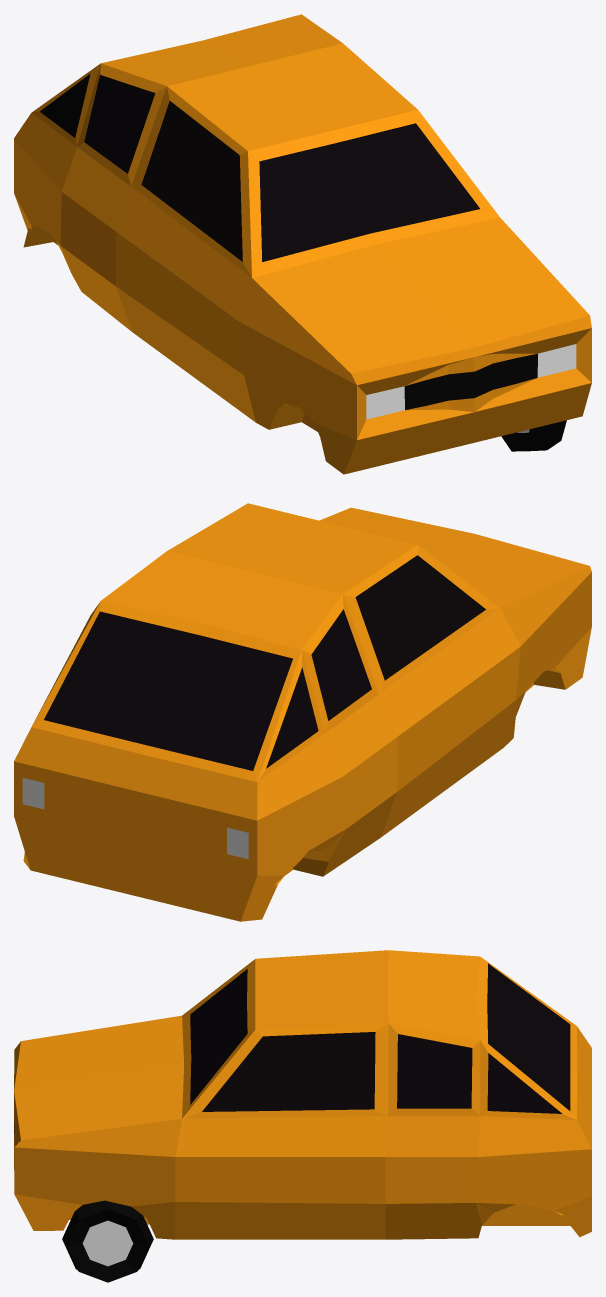
Rendered from car.fbx.
3 renders of one model, top to bottom at view 1: azimuth 30°, elevation 25°; view 2: azimuth 150°, elevation 25°; view 3: azimuth 270°, elevation 25°, orthographic. The views are drawn at different scales.
Visible parts, largest first — view 1: CarBody, Wheel; view 2: CarBody; view 3: CarBody, Wheel.
Part boxes in pixels (x1,y1,x2,y2): CarBody: [14, 14, 591, 474]; Wheel: [501, 420, 566, 451]; CarBody: [14, 503, 591, 921]; CarBody: [14, 950, 591, 1239]; Wheel: [62, 1200, 153, 1282].
Size of the model in its own units: 375 by 365 by 768.
